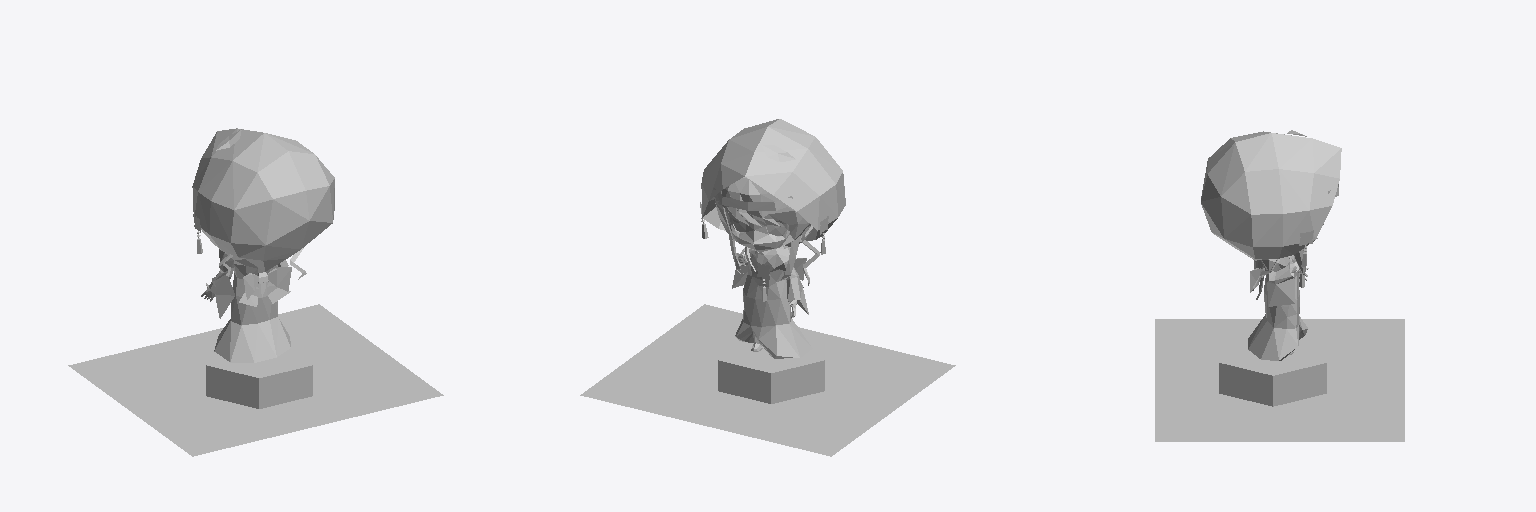
The model's file is SnowMiku.obj.
The picture shows the model from 3 angles: view 1: azimuth 30°, elevation 25°; view 2: azimuth 150°, elevation 25°; view 3: azimuth 270°, elevation 25°; orthographic projection.
Parts seen in each view (by area): view 1: ROOMITEMS011_ALL; view 2: ROOMITEMS011_ALL; view 3: ROOMITEMS011_ALL.
Part boxes in pixels (bbox=[...]): ROOMITEMS011_ALL: bbox=[68, 128, 443, 456]; ROOMITEMS011_ALL: bbox=[580, 119, 955, 456]; ROOMITEMS011_ALL: bbox=[1155, 130, 1404, 441].
Bounding box in the file's own units: 4.12 × 3.92 × 3.53.